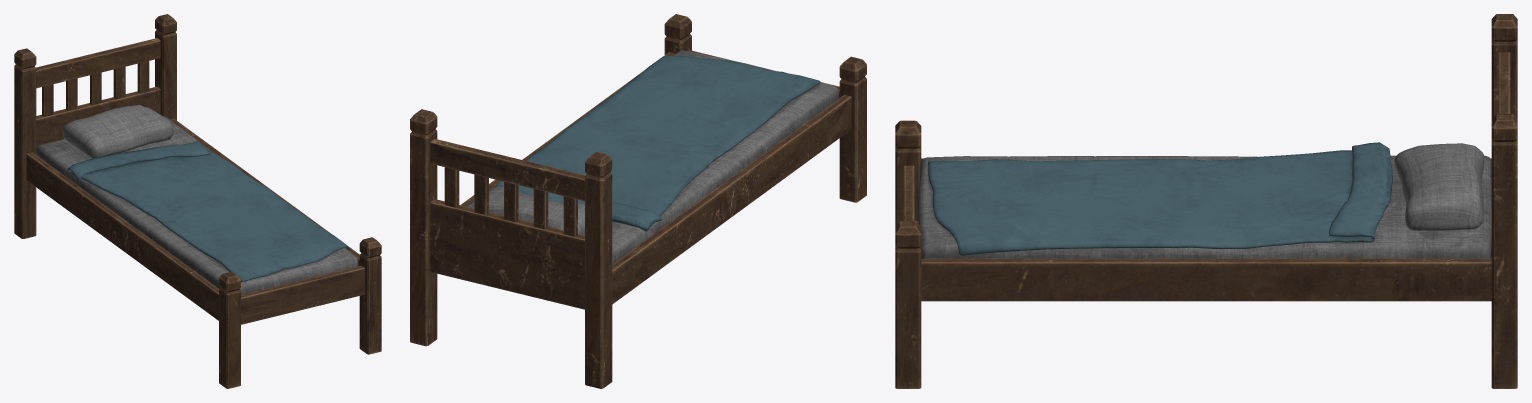
Rendered from BED_1.glb.
3 views of the same model, side by side, from view 1: azimuth 30°, elevation 25°; view 2: azimuth 150°, elevation 25°; view 3: azimuth 270°, elevation 25° (orthographic). The views are drawn at different scales.
Visible parts, largest first — view 1: Bed_DefaultMaterial_0; view 2: Bed_DefaultMaterial_0; view 3: Bed_DefaultMaterial_0.
Part boxes in pixels (x1,y1,x2,y2): Bed_DefaultMaterial_0: (14, 14, 381, 388); Bed_DefaultMaterial_0: (410, 14, 866, 388); Bed_DefaultMaterial_0: (895, 14, 1517, 388).
Bounding box in the file's own units: 0.7175 × 0.8088 × 1.71.
Materials: 1 (1 with a texture image).
